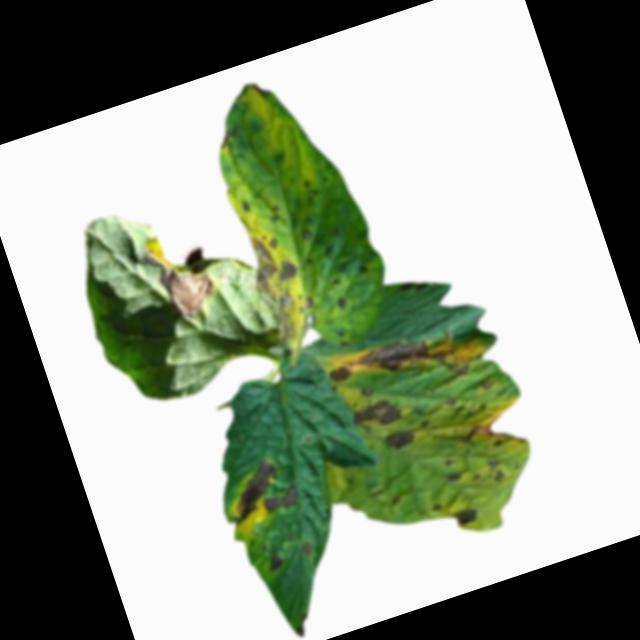Early_blight: (239, 224, 318, 352), (136, 223, 223, 330), (351, 324, 456, 392), (224, 459, 286, 524), (352, 394, 404, 436), (260, 482, 303, 519), (459, 418, 501, 448), (382, 423, 421, 455), (237, 79, 272, 108), (327, 361, 356, 388), (486, 456, 511, 486), (451, 506, 480, 529), (266, 552, 288, 575), (332, 295, 351, 316), (299, 540, 316, 561), (449, 471, 466, 486)
